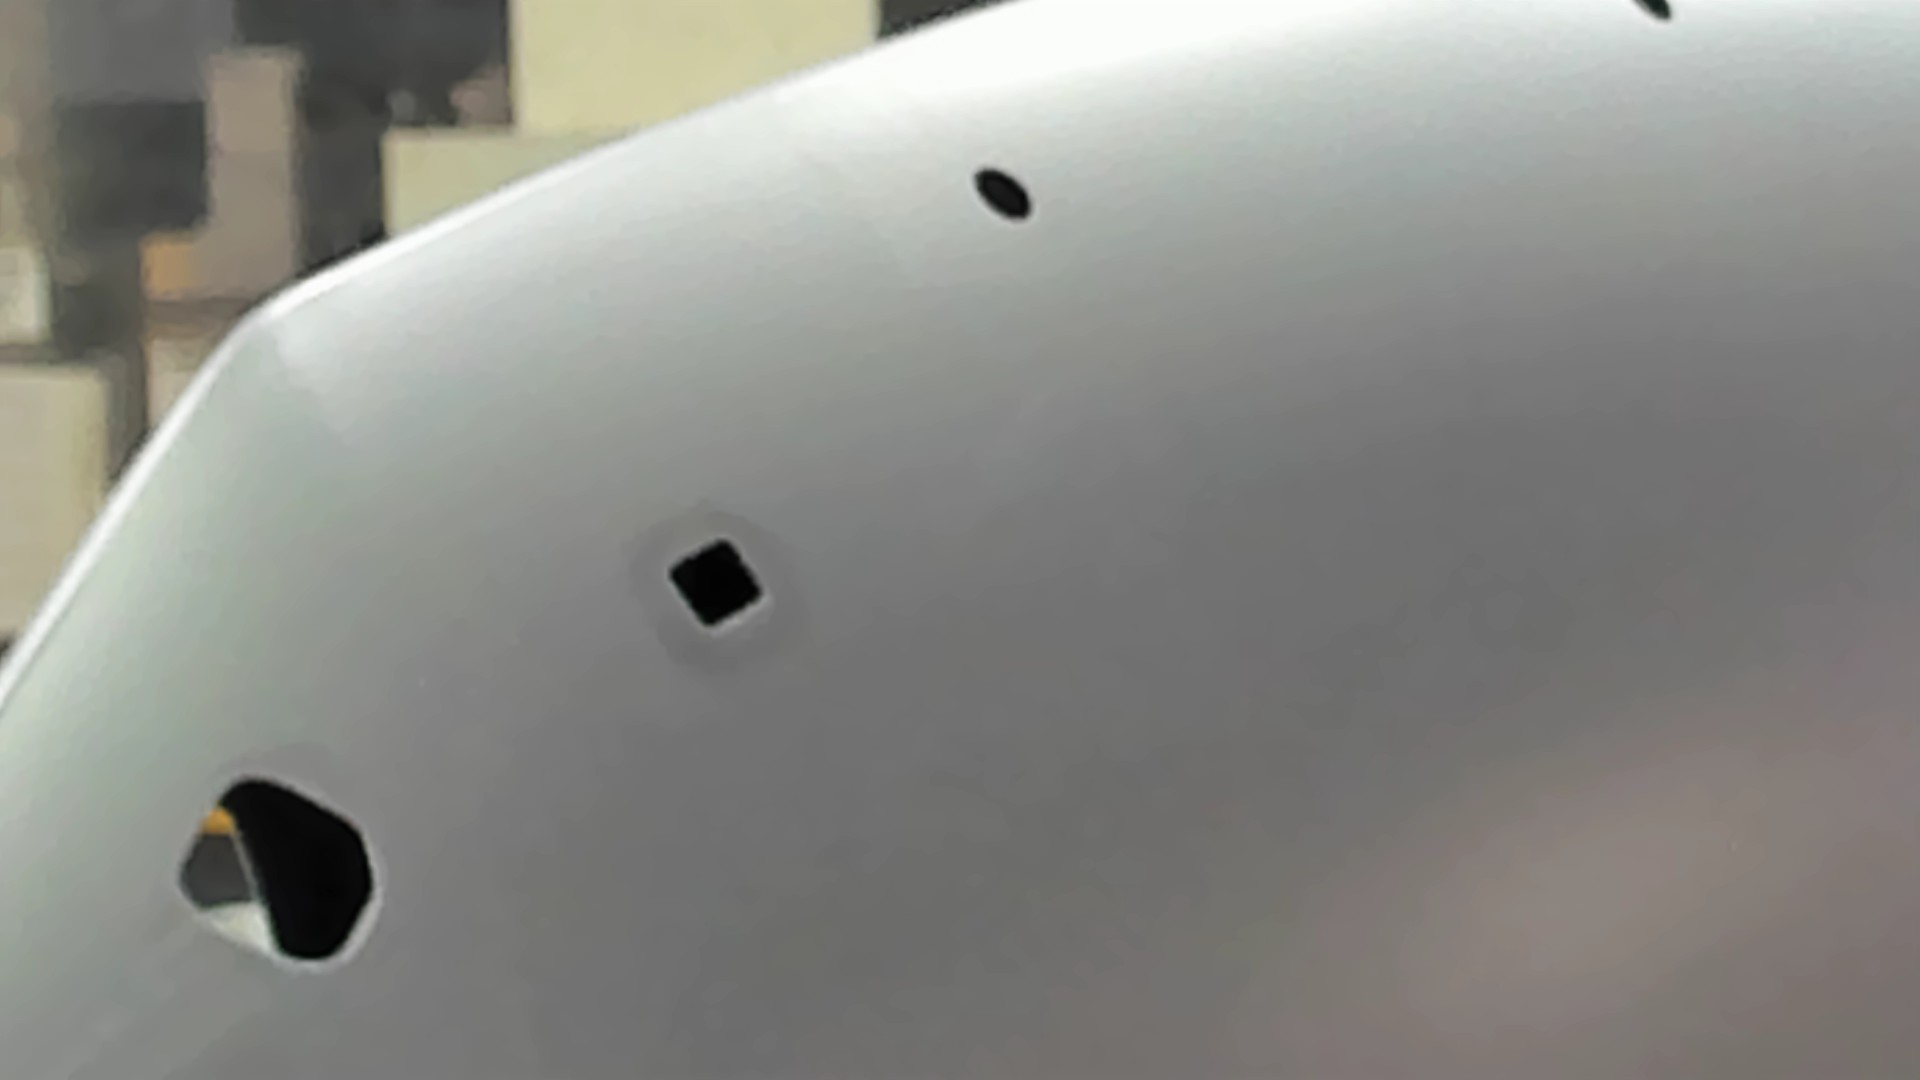chico: (969, 158, 1042, 231), (1630, 1, 1673, 32)
grande: (166, 769, 378, 975)
mediano: (659, 531, 770, 641)
